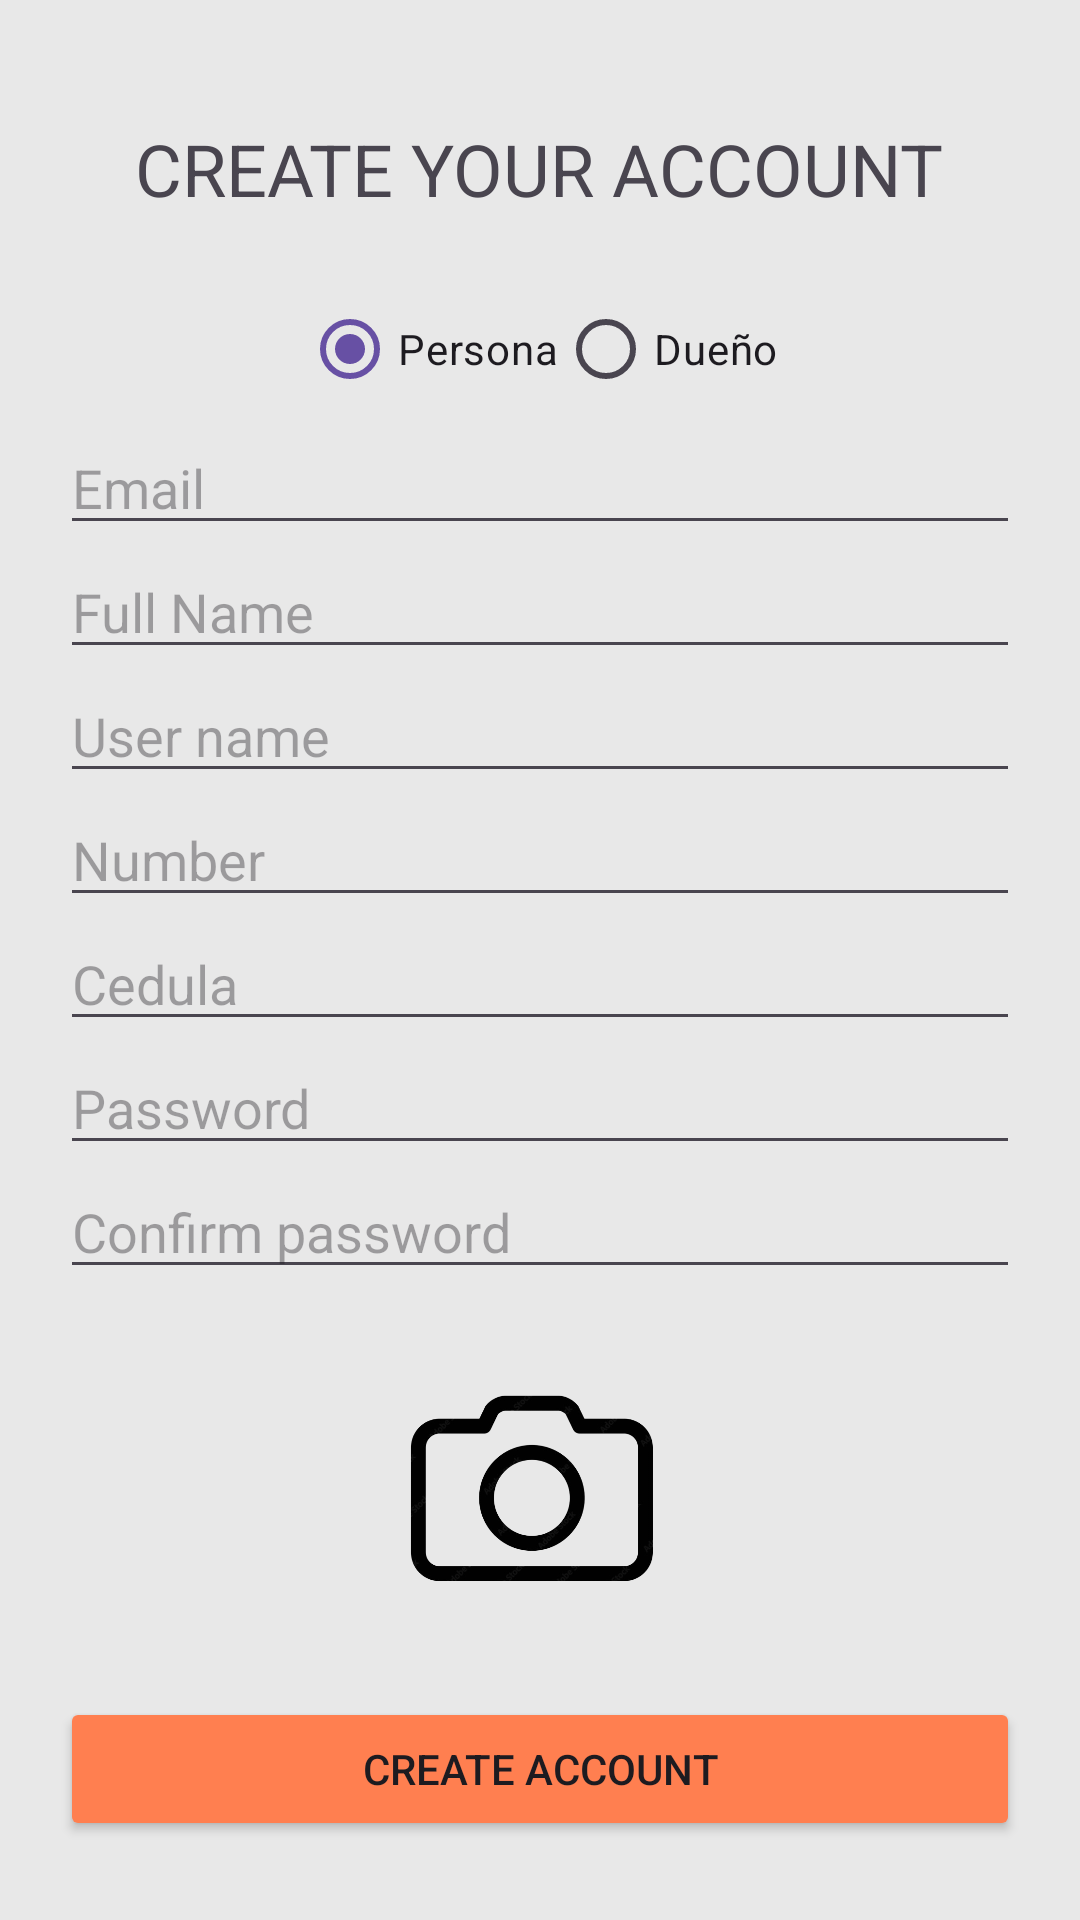

Point at icon controls on the screen. Image size 1080px×1920px, points as point (x, y).
Toma una foto: point (532, 1488)
